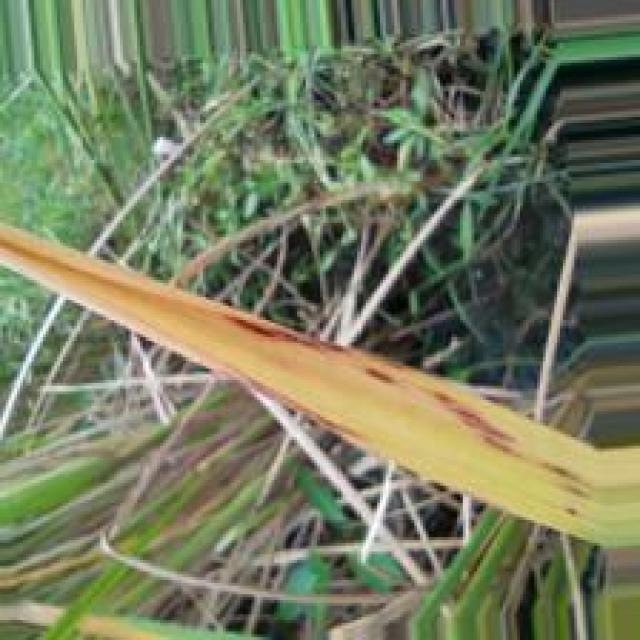Narrow_Brown_Leaf_Spot: (0, 221, 599, 534)
